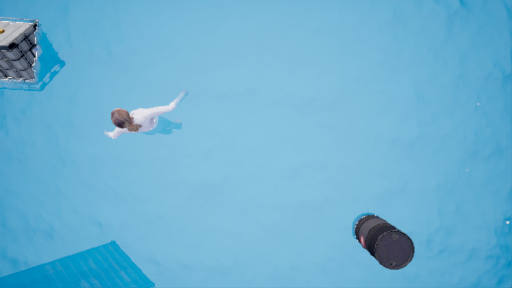person: (91, 91, 207, 148)
